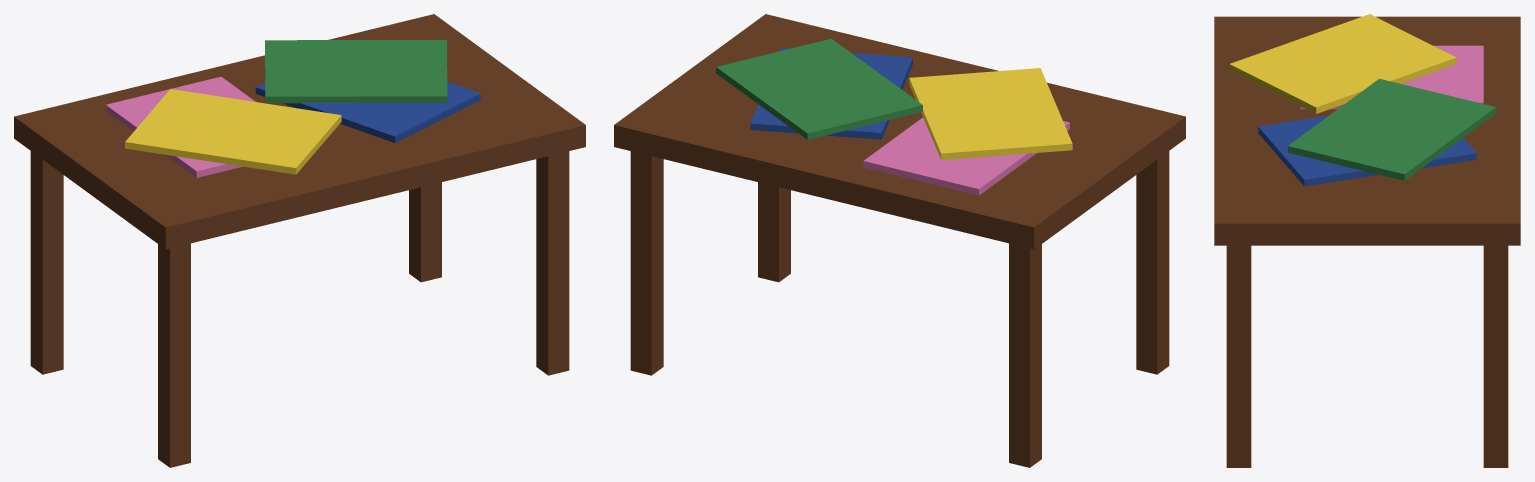
Rendered from magazine_table.glb.
3 views of the same model, side by side, from view 1: azimuth 30°, elevation 25°; view 2: azimuth 150°, elevation 25°; view 3: azimuth 270°, elevation 25° (orthographic).
Parts seen in each view (by area): view 1: top_case_wood, magazine, leg_case_wood; view 2: top_case_wood, magazine, leg_case_wood; view 3: top_case_wood, magazine, leg_case_wood.
Part boxes in pixels (x1=…): top_case_wood: x1=14, y1=14, x2=585, y2=249; magazine: x1=105, y1=40, x2=480, y2=177; leg_case_wood: x1=30, y1=151, x2=569, y2=467; top_case_wood: x1=614, y1=14, x2=1185, y2=249; magazine: x1=716, y1=38, x2=1072, y2=195; leg_case_wood: x1=630, y1=151, x2=1169, y2=467; top_case_wood: x1=1214, y1=16, x2=1520, y2=245; magazine: x1=1229, y1=14, x2=1495, y2=186; leg_case_wood: x1=1226, y1=245, x2=1508, y2=467.
Size of the model in its own units: 0.8 by 0.499 by 0.5.
